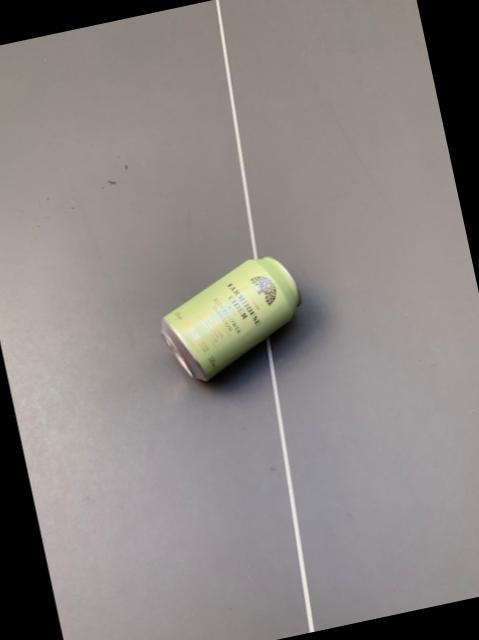metal: (160, 255, 298, 378)
